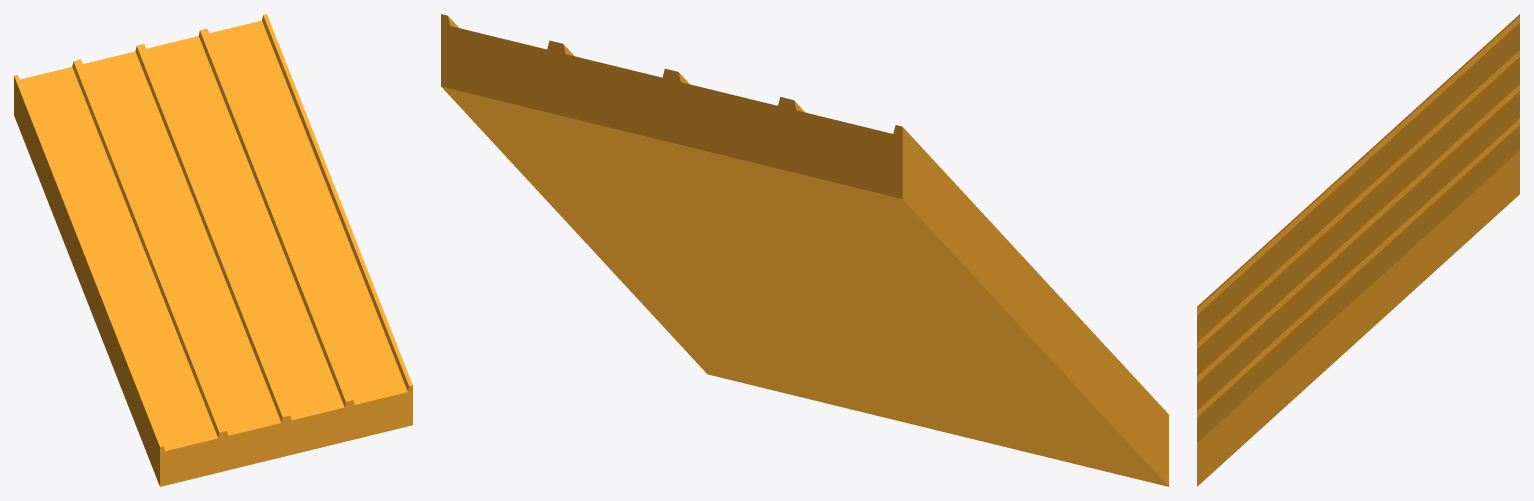
File: SM_Roof_Metal_Regular_2x2m.fbx
3 renders of one model, left to right at view 1: azimuth 30°, elevation 25°; view 2: azimuth 150°, elevation 25°; view 3: azimuth 270°, elevation 25°, orthographic. The views are drawn at different scales.
Parts seen in each view (by area): view 1: roof-metal-regular-2x2m; view 2: roof-metal-regular-2x2m; view 3: roof-metal-regular-2x2m.
Boxes of the visible parts, box(x1,y1,x2,y2) form: roof-metal-regular-2x2m: box(14, 14, 412, 486); roof-metal-regular-2x2m: box(441, 14, 1168, 486); roof-metal-regular-2x2m: box(1197, 14, 1519, 486).
Bounding box in the file's own units: 2 × 2.3 × 2.
